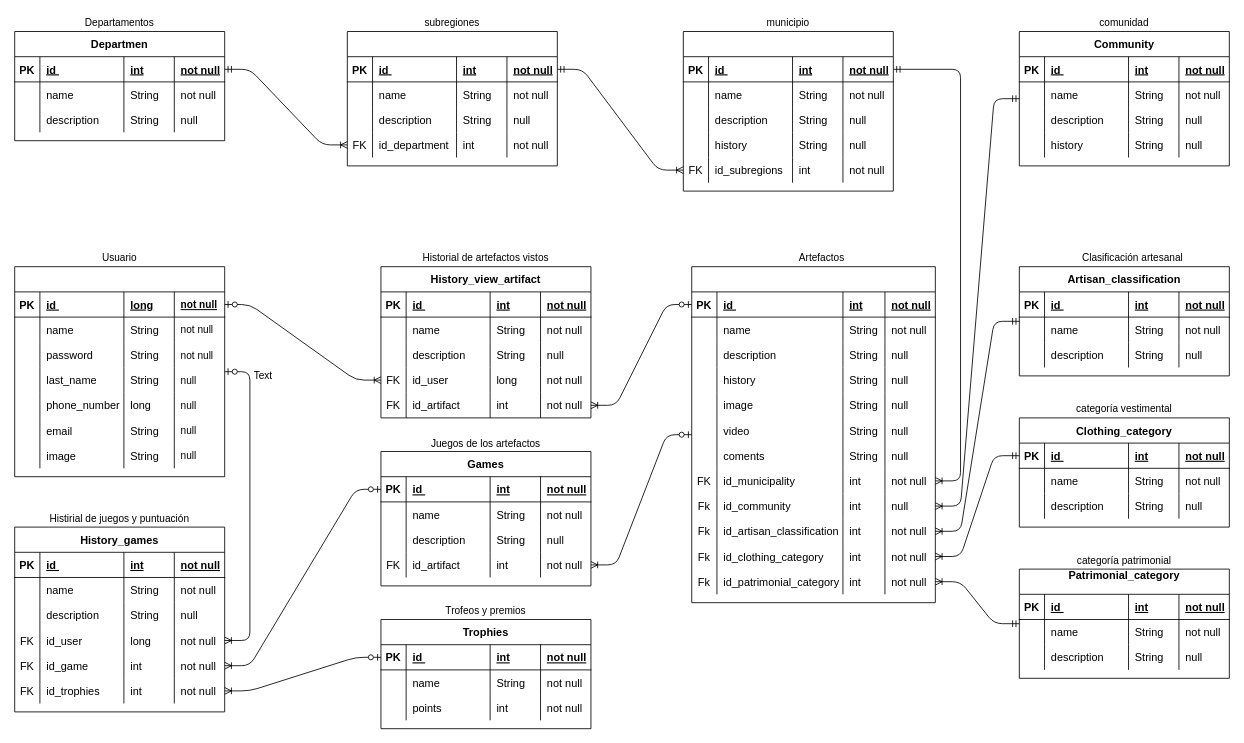
Image size: 1244x743. Some labels were removed from this diagram. The shapes that lost their labels are listed below. From the top down, each one's box as (x1, y1, x2, y2) in pixels, then its label:
(346, 31, 557, 166): Subregions
(682, 31, 893, 191): Municipality
(14, 266, 225, 477): User
(691, 266, 935, 603): Artifact
